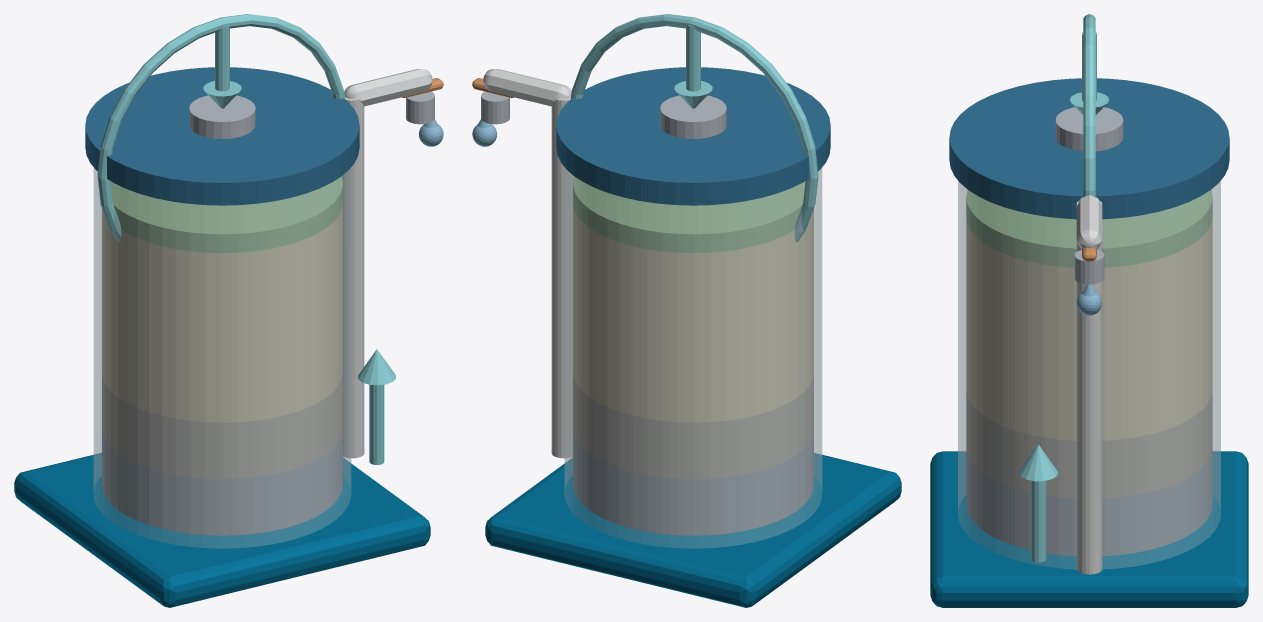
3 renders of one model, left to right at view 1: azimuth 30°, elevation 25°; view 2: azimuth 150°, elevation 25°; view 3: azimuth 270°, elevation 25°, orthographic. The views are drawn at different scales.
Parts seen in each view (by area): view 1: deco_vidrio_carcasa, part_arena, part_tapa, deco_base, part_grava_gruesa, part_grava_fina, part_capa_biologica, part_salida, deco_flujo; view 2: deco_vidrio_carcasa, part_arena, part_tapa, deco_base, part_grava_gruesa, part_grava_fina, part_capa_biologica, part_salida, deco_flujo; view 3: deco_vidrio_carcasa, part_arena, part_tapa, deco_base, part_grava_gruesa, part_grava_fina, part_capa_biologica, part_salida, deco_flujo.
Boxes of the visible parts, x1,y1,x2,y2 form: deco_vidrio_carcasa: [93, 168, 351, 548]; part_arena: [102, 204, 342, 422]; part_tapa: [85, 14, 359, 241]; deco_base: [14, 453, 430, 607]; part_grava_gruesa: [102, 430, 342, 535]; part_grava_fina: [102, 373, 342, 479]; part_capa_biologica: [110, 176, 342, 253]; part_salida: [342, 69, 443, 458]; deco_flujo: [203, 24, 395, 464]; deco_vidrio_carcasa: [564, 168, 822, 548]; part_arena: [573, 204, 813, 422]; part_tapa: [556, 14, 830, 241]; deco_base: [485, 453, 901, 607]; part_grava_gruesa: [573, 430, 813, 535]; part_grava_fina: [573, 373, 813, 479]; part_capa_biologica: [573, 176, 805, 253]; part_salida: [472, 69, 573, 458]; deco_flujo: [674, 24, 712, 108]; deco_vidrio_carcasa: [958, 181, 1220, 569]; part_arena: [966, 217, 1212, 440]; part_tapa: [949, 14, 1229, 219]; deco_base: [930, 451, 1248, 607]; part_grava_gruesa: [966, 448, 1212, 556]; part_grava_fina: [966, 390, 1212, 498]; part_capa_biologica: [966, 190, 1212, 267]; part_salida: [1074, 195, 1104, 574]; deco_flujo: [1019, 32, 1109, 562].
Size of the model in its own units: 0.985 by 1.35 by 0.75.
